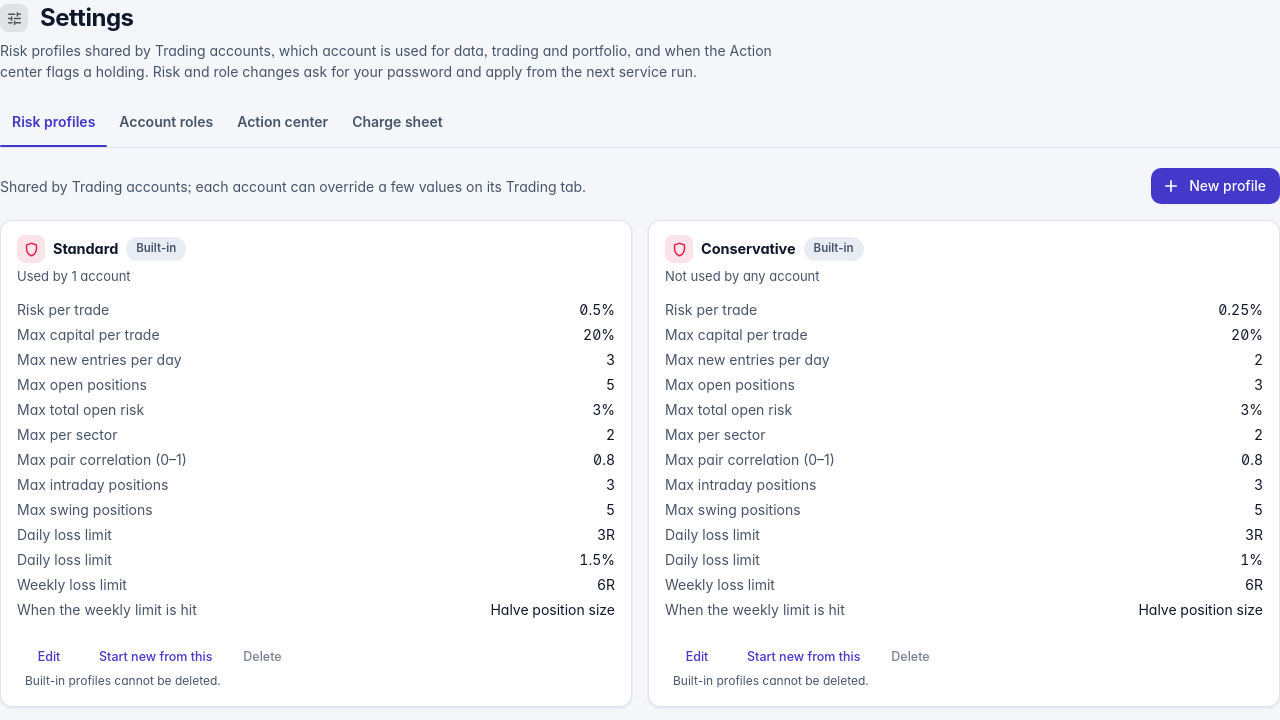
Test: Risk profiles › edits a profile and maps server field errors to the fields
Click the button with aria-label "Edit Standard": click(49, 656) [17,642,81,672]
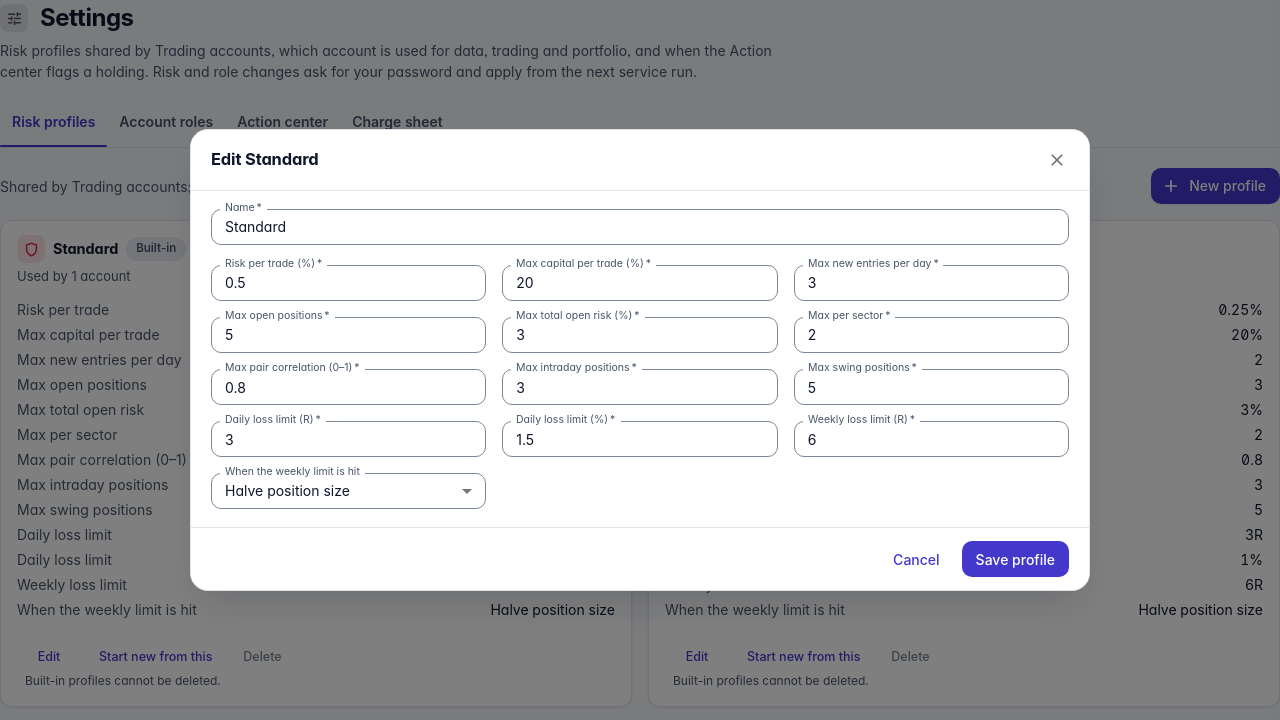
Click the button "Save profile": click(1015, 559) [962,541,1069,577]
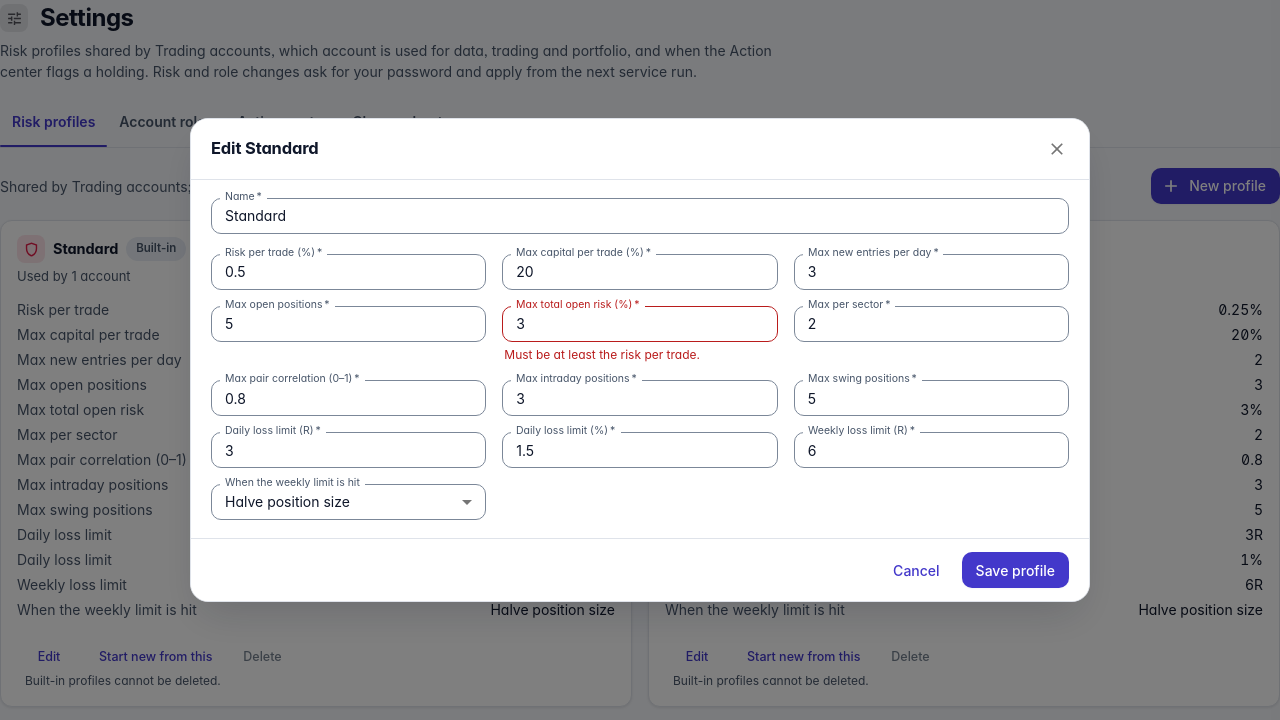
Result: the text "Must be at least the risk per trade." is shown at [504,347,700,362]
